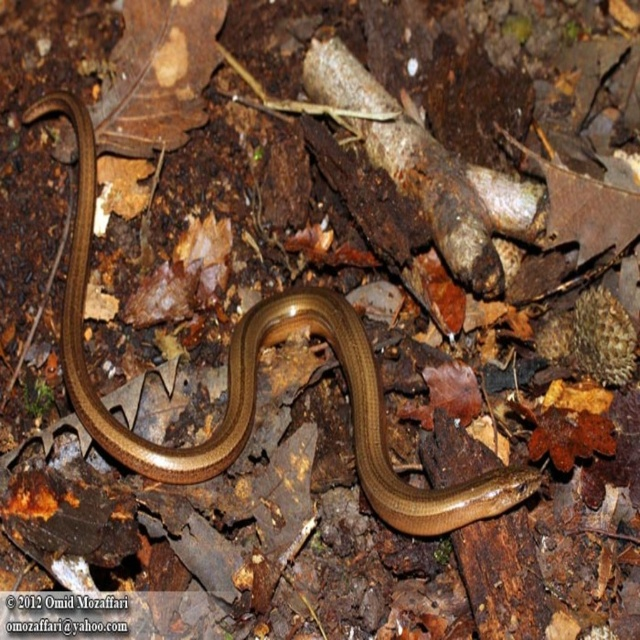Snake: (19, 87, 549, 539)
